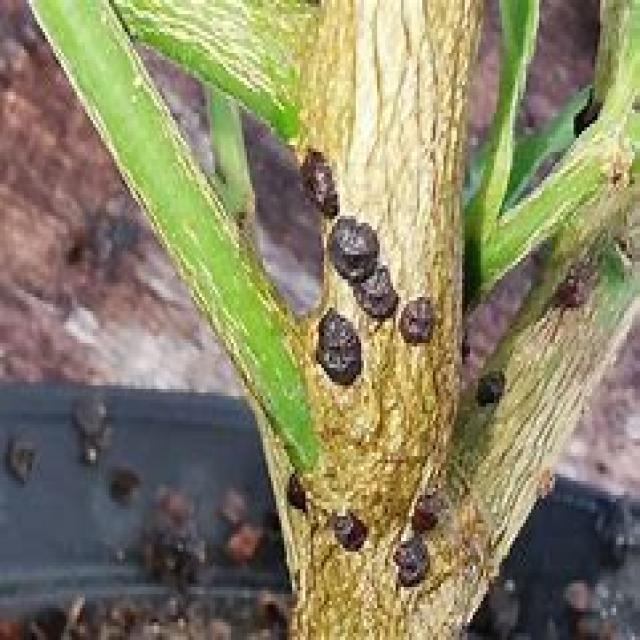Black Scale: (327, 216, 396, 315), (389, 491, 449, 590), (316, 308, 360, 385), (296, 152, 337, 216), (398, 292, 436, 344), (329, 509, 366, 553), (475, 369, 505, 409)
